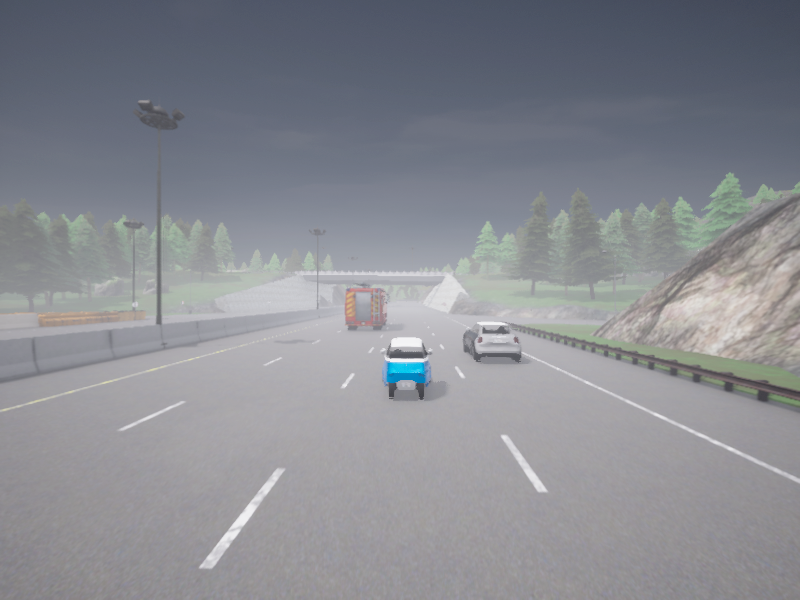vehicle: (380, 338, 432, 397), (463, 322, 521, 360), (345, 282, 389, 329)
